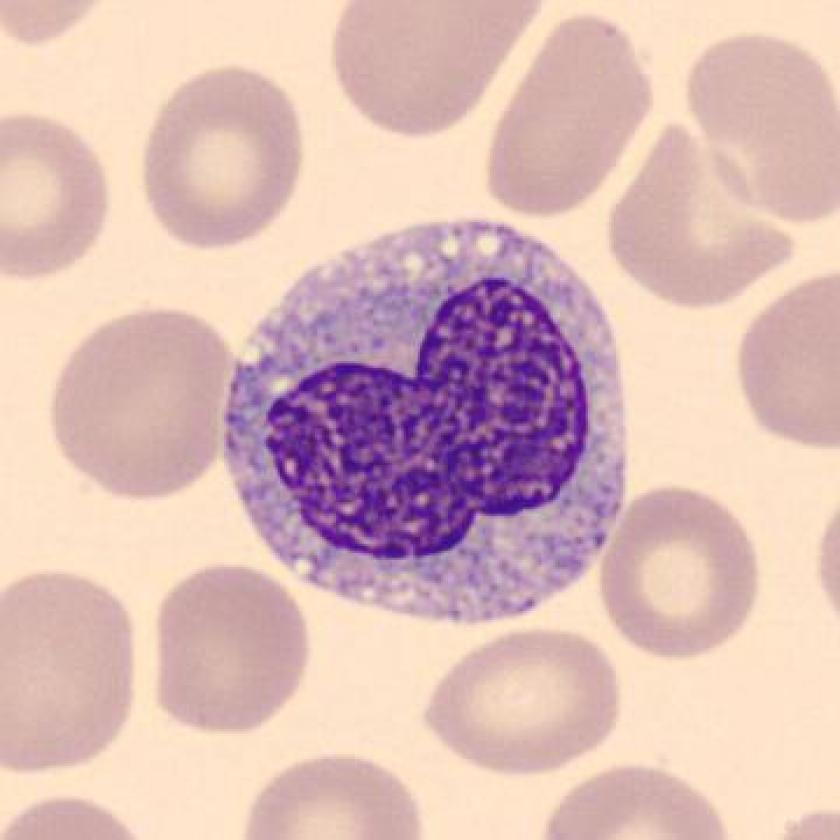monocyte: (204, 184, 654, 649)
